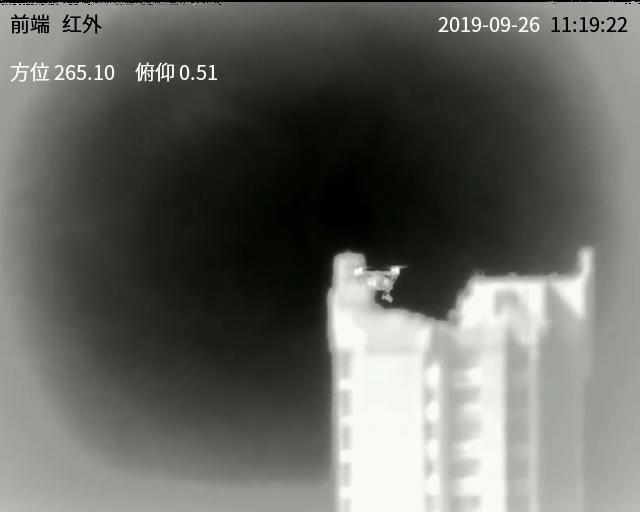uav: (351, 263, 408, 309)
